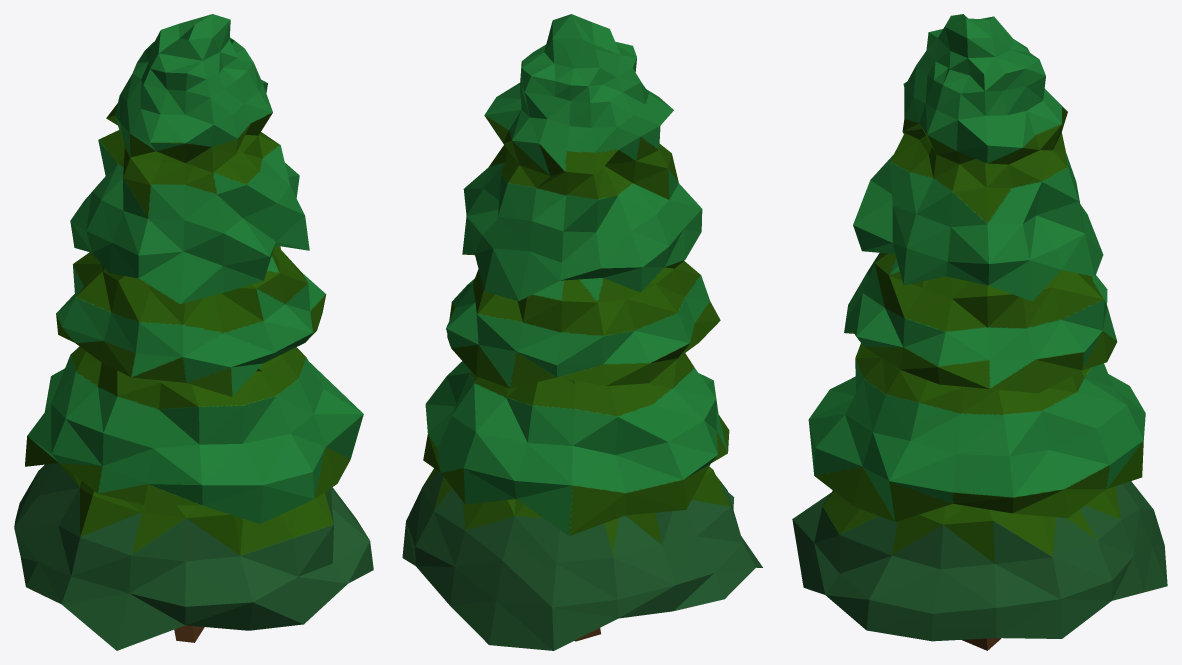
Rendered from pino.obj.
The picture shows the model from 3 angles, left to right: view 1: azimuth 30°, elevation 25°; view 2: azimuth 150°, elevation 25°; view 3: azimuth 270°, elevation 25°; orthographic projection. The views are drawn at different scales.
Parts seen in each view (by area): view 1: _1_tree_Cone.019; view 2: _1_tree_Cone.019; view 3: _1_tree_Cone.019.
Part boxes in pixels (x1,y1,x2,y2): _1_tree_Cone.019: (14,14,373,650); _1_tree_Cone.019: (402,14,762,650); _1_tree_Cone.019: (792,14,1167,650).
Bounding box in the file's own units: 0.7483 × 1.45 × 0.7799.
Materials: 1 (1 with a texture image).
